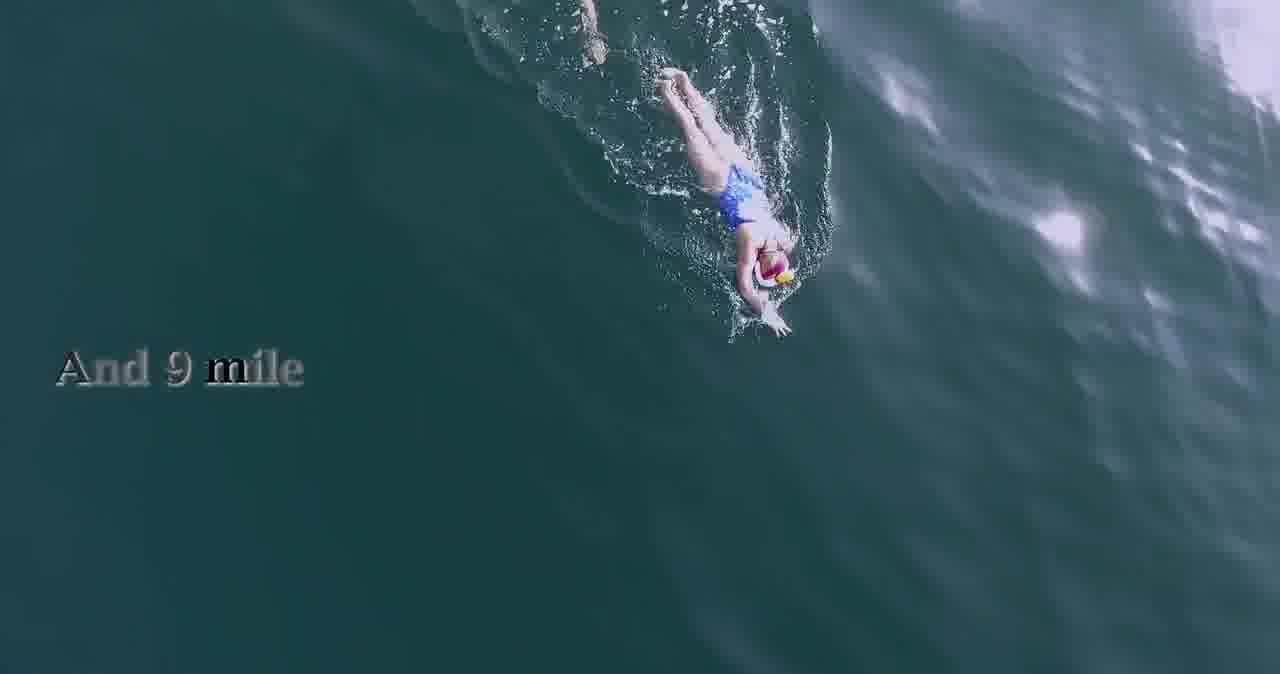human: (642, 42, 844, 339)
